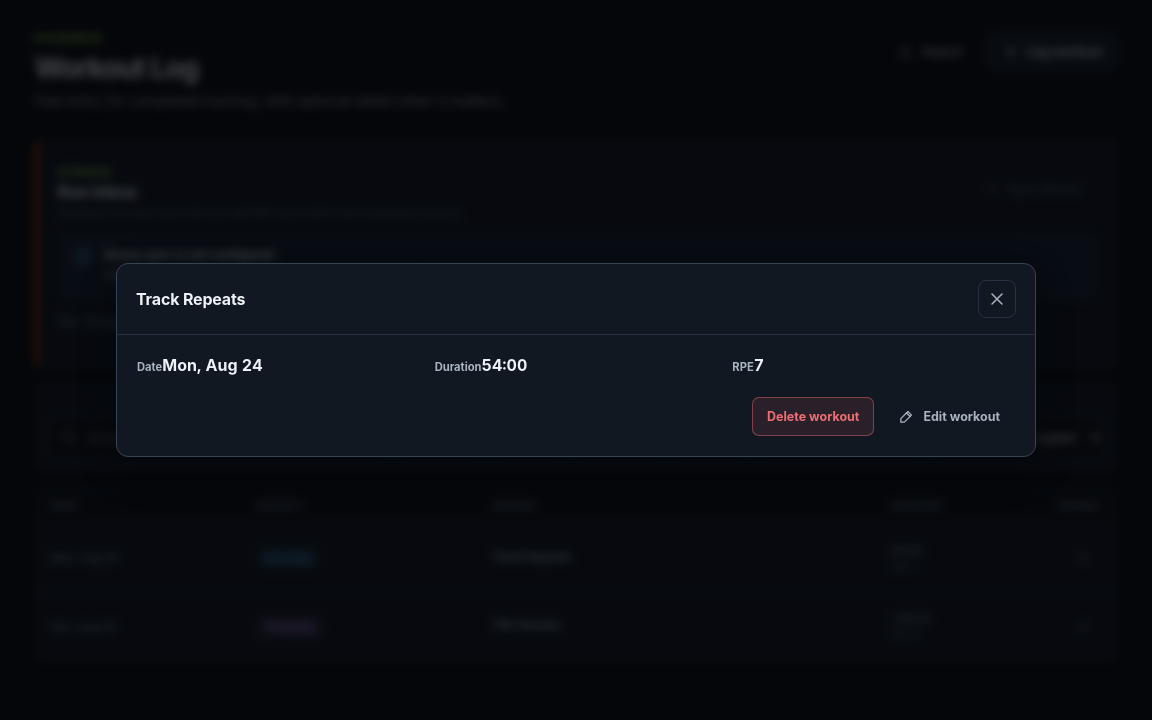
it: workout import degradation › opens a requested result and filters history by date, sport and session type
This screenshot has width=1152, height=720.
Expected: the dialog "Track Repeats" is shown, [116,263,1036,457]
Click the button named "Close" at (997, 299), box [978,280,1016,318]
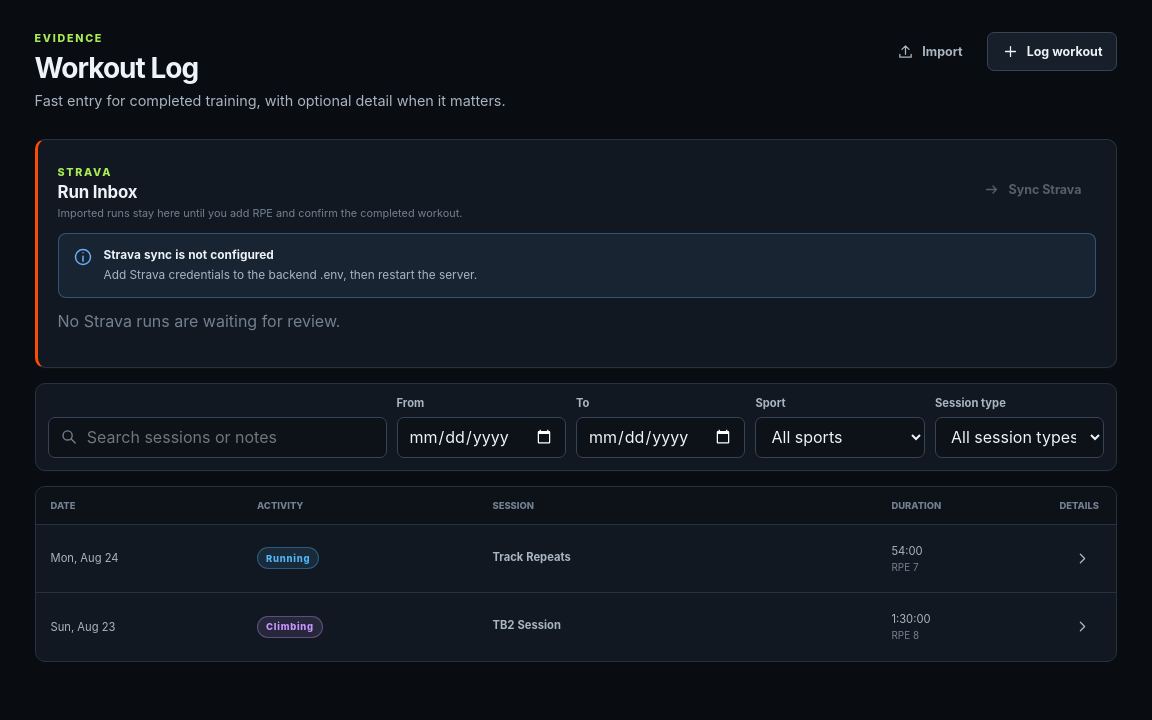
Select "Climbing" in the dropdown labelled "Sport" at (840, 437), box [756,417,925,458]
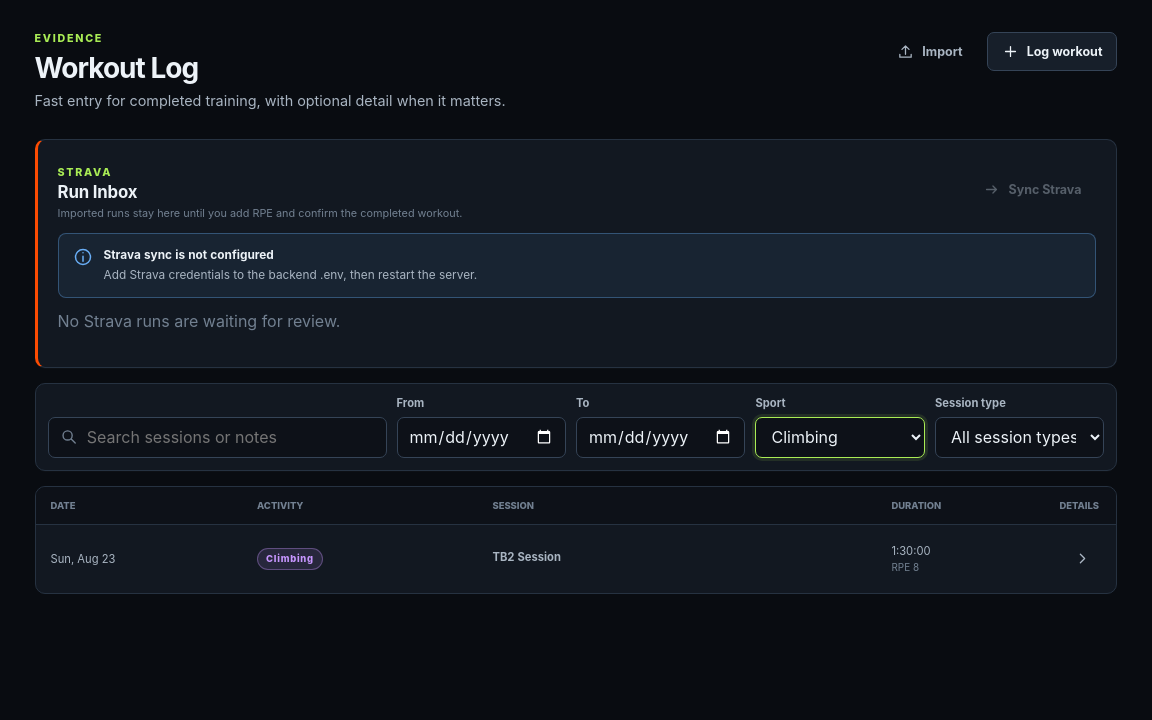
Expected: the text "TB2 Session" is shown, [492,550,561,564]
Expected: the text "Track Repeats" is gone
Select "Board" in the dropdown labelled "Session type" at (1020, 437), box [935,417,1104,458]
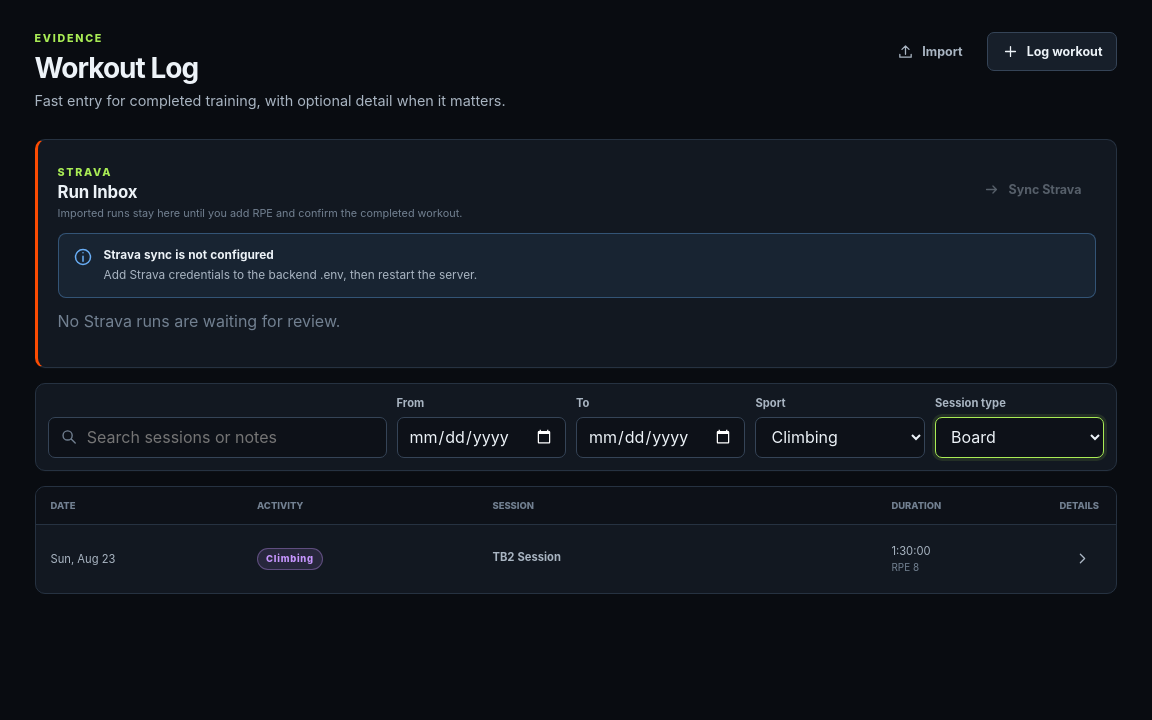
Type "2026-08-24" into the date field labelled "From" at (481, 437), box [396,417,566,458]
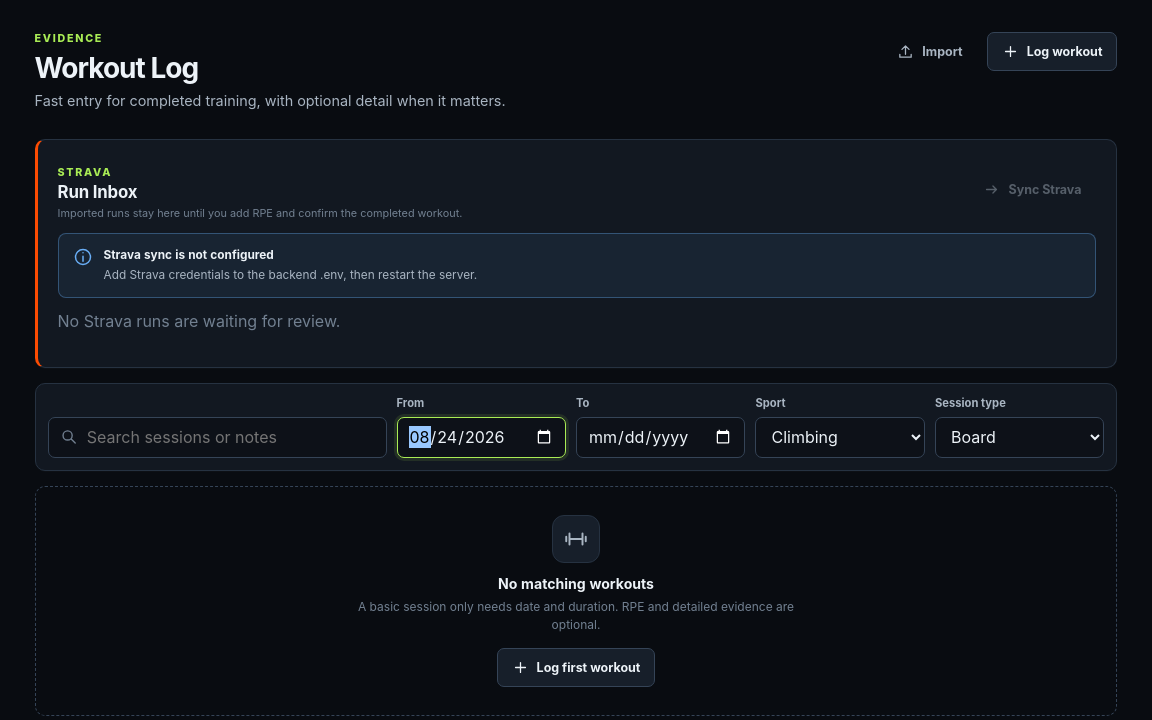
Expected: the text "No matching workouts" is shown, [498,575,654,592]
